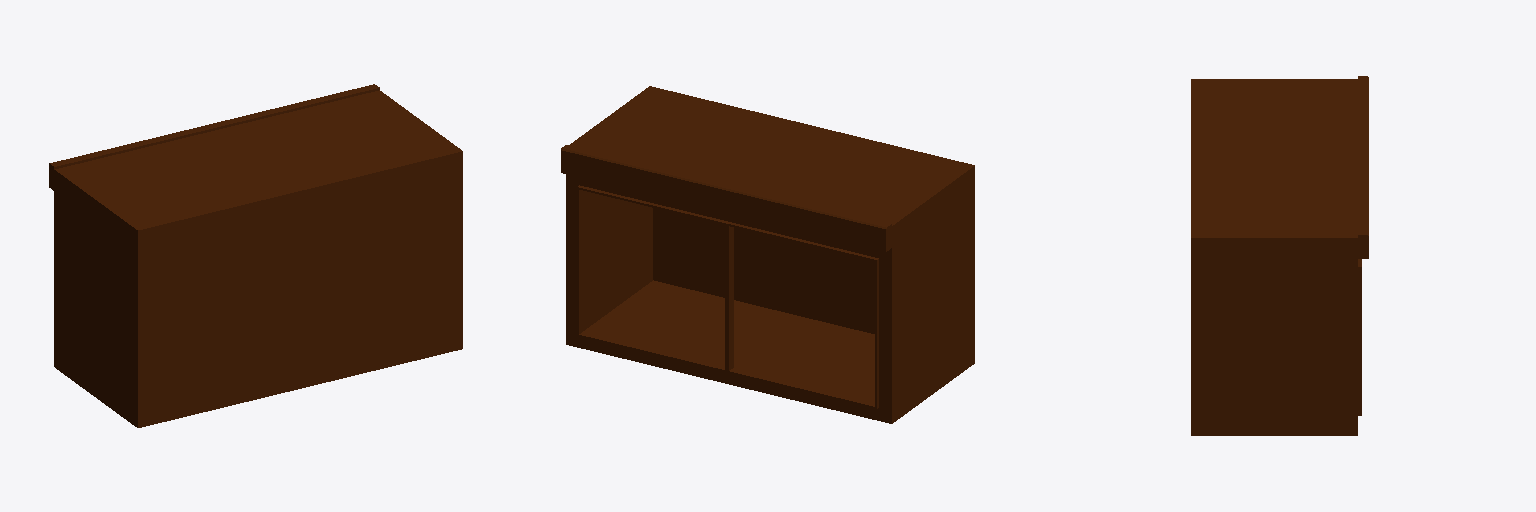
The model's file is KitchenCounter.obj.
The picture shows the model from 3 angles: view 1: azimuth 30°, elevation 25°; view 2: azimuth 150°, elevation 25°; view 3: azimuth 270°, elevation 25°; orthographic projection.
Visible parts, largest first — view 1: Counter_Cube.026; view 2: Counter_Cube.026; view 3: Counter_Cube.026.
Part boxes in pixels (bbox=[...]): Counter_Cube.026: bbox=[49, 84, 462, 427]; Counter_Cube.026: bbox=[561, 86, 974, 423]; Counter_Cube.026: bbox=[1191, 76, 1368, 435].
Size of the model in its own units: 2 by 1.18 by 0.9493.